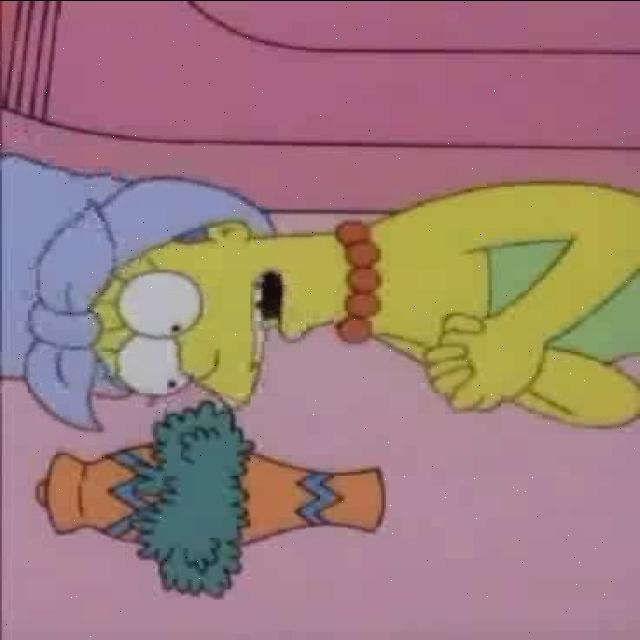Marge Simpson: (82, 209, 384, 408)
